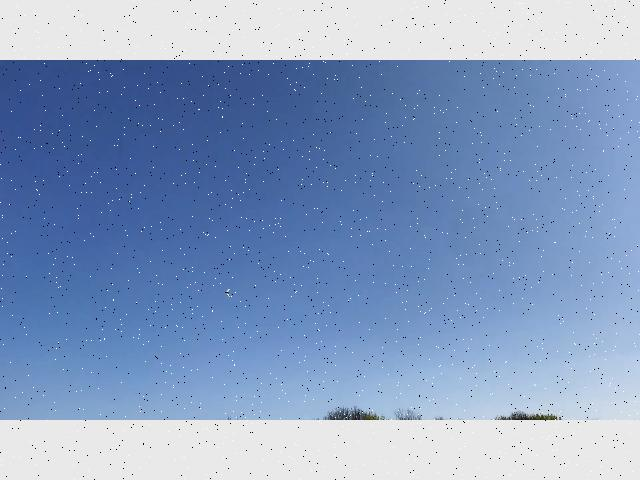Anti-Drone: (212, 284, 250, 308)
